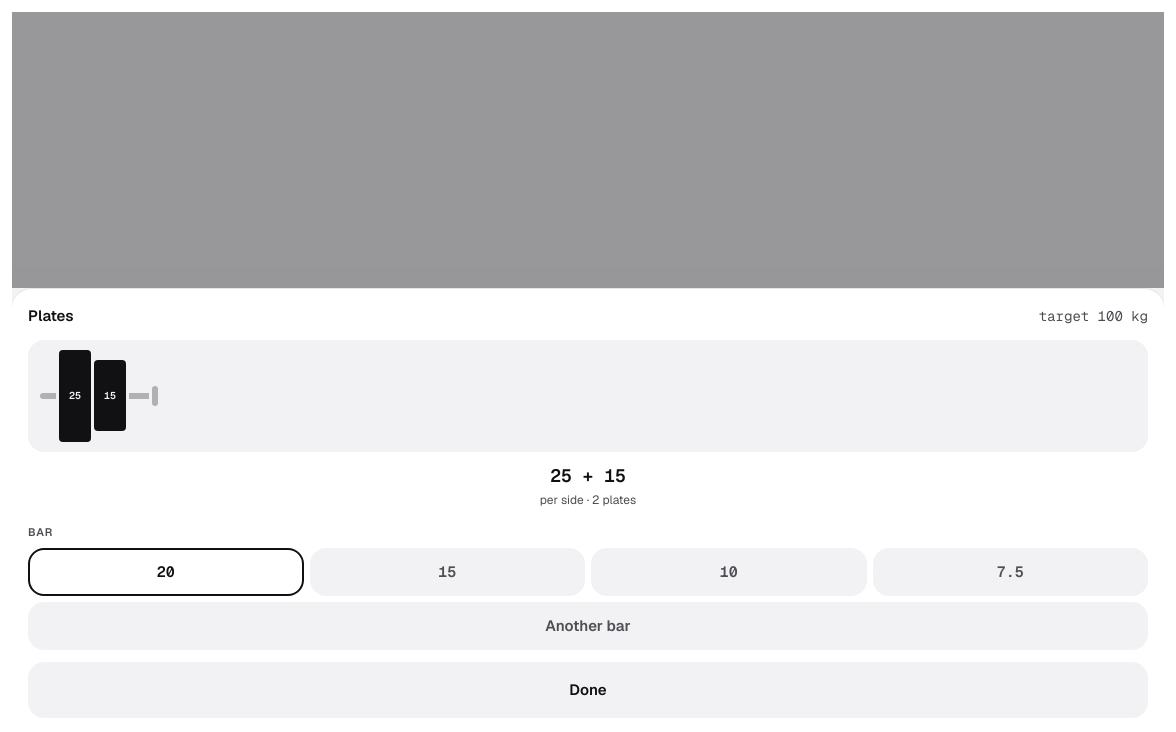
Test case: PlateSheet › takes a bar none of the presets covers
The image size is (1176, 732).
Click the button "Another bar" at (588, 626), box [28,602,1148,650]
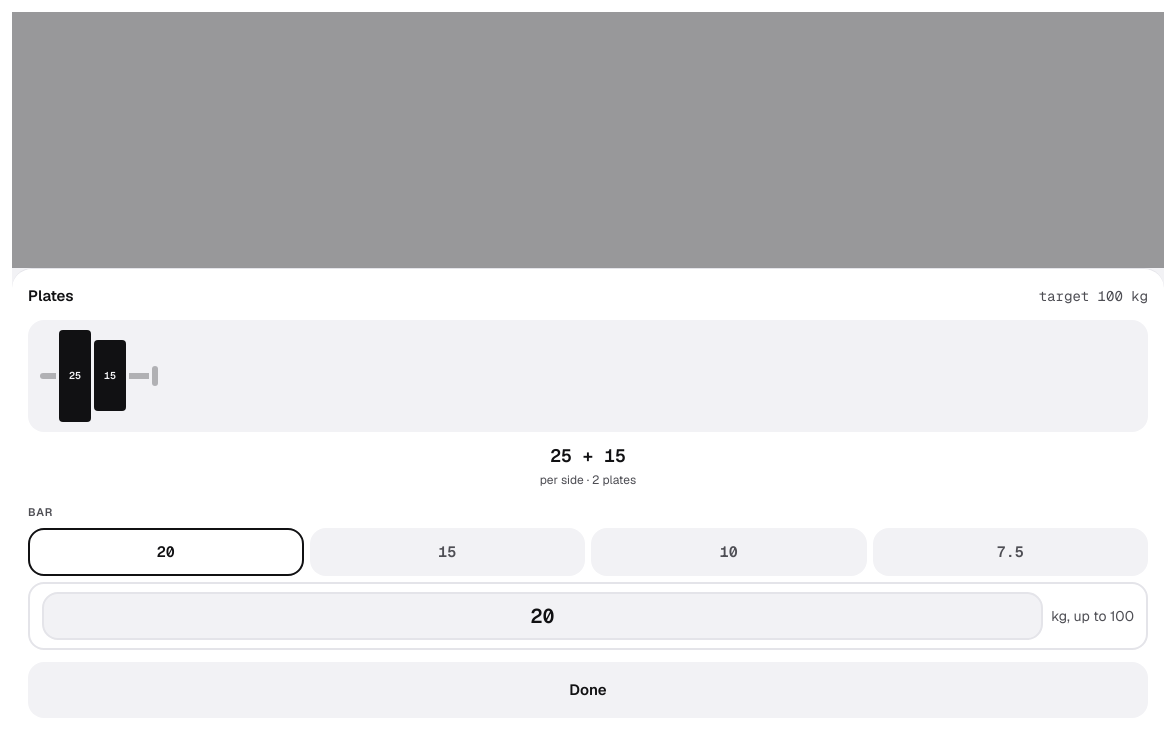
Replace the text in the field named "Bar weight" with "25" at (543, 616), box [42,592,1043,640]
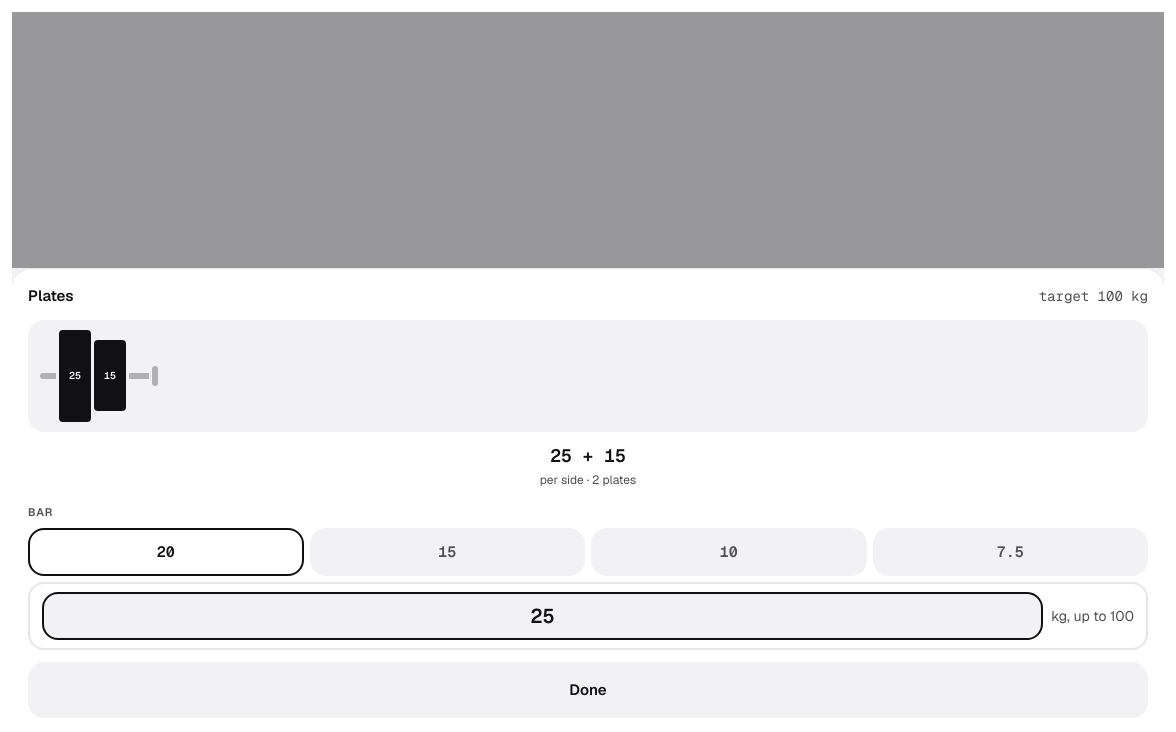
Press Tab
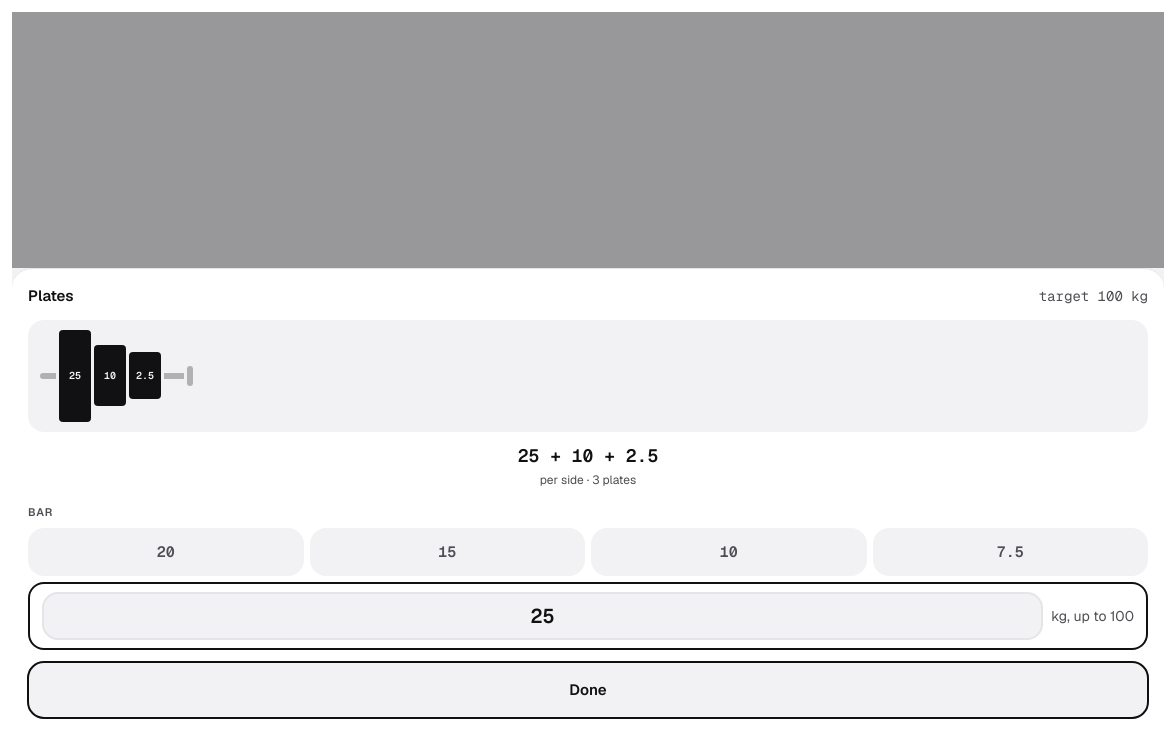
Check: the text "25 + 10 + 2.5" is shown, box [518,444,658,466]
